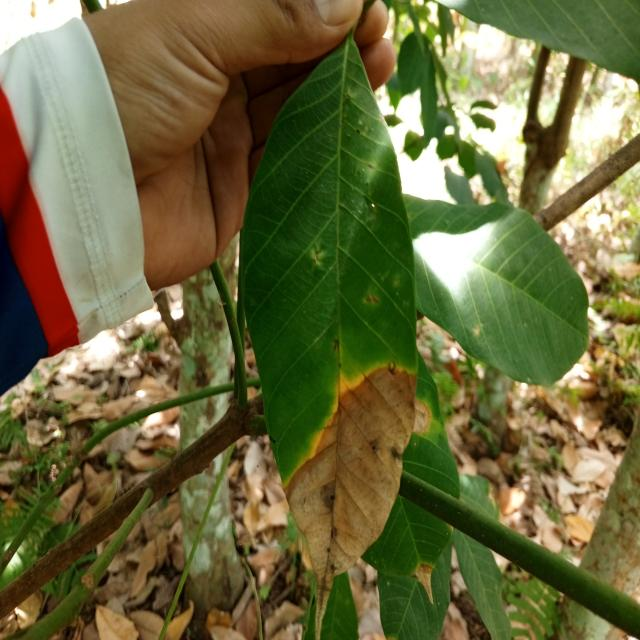Colletotrichum: (330, 495, 335, 500), (372, 445, 376, 450)
Leaf-Blight: (283, 362, 416, 640), (411, 562, 435, 604), (413, 399, 431, 434)
